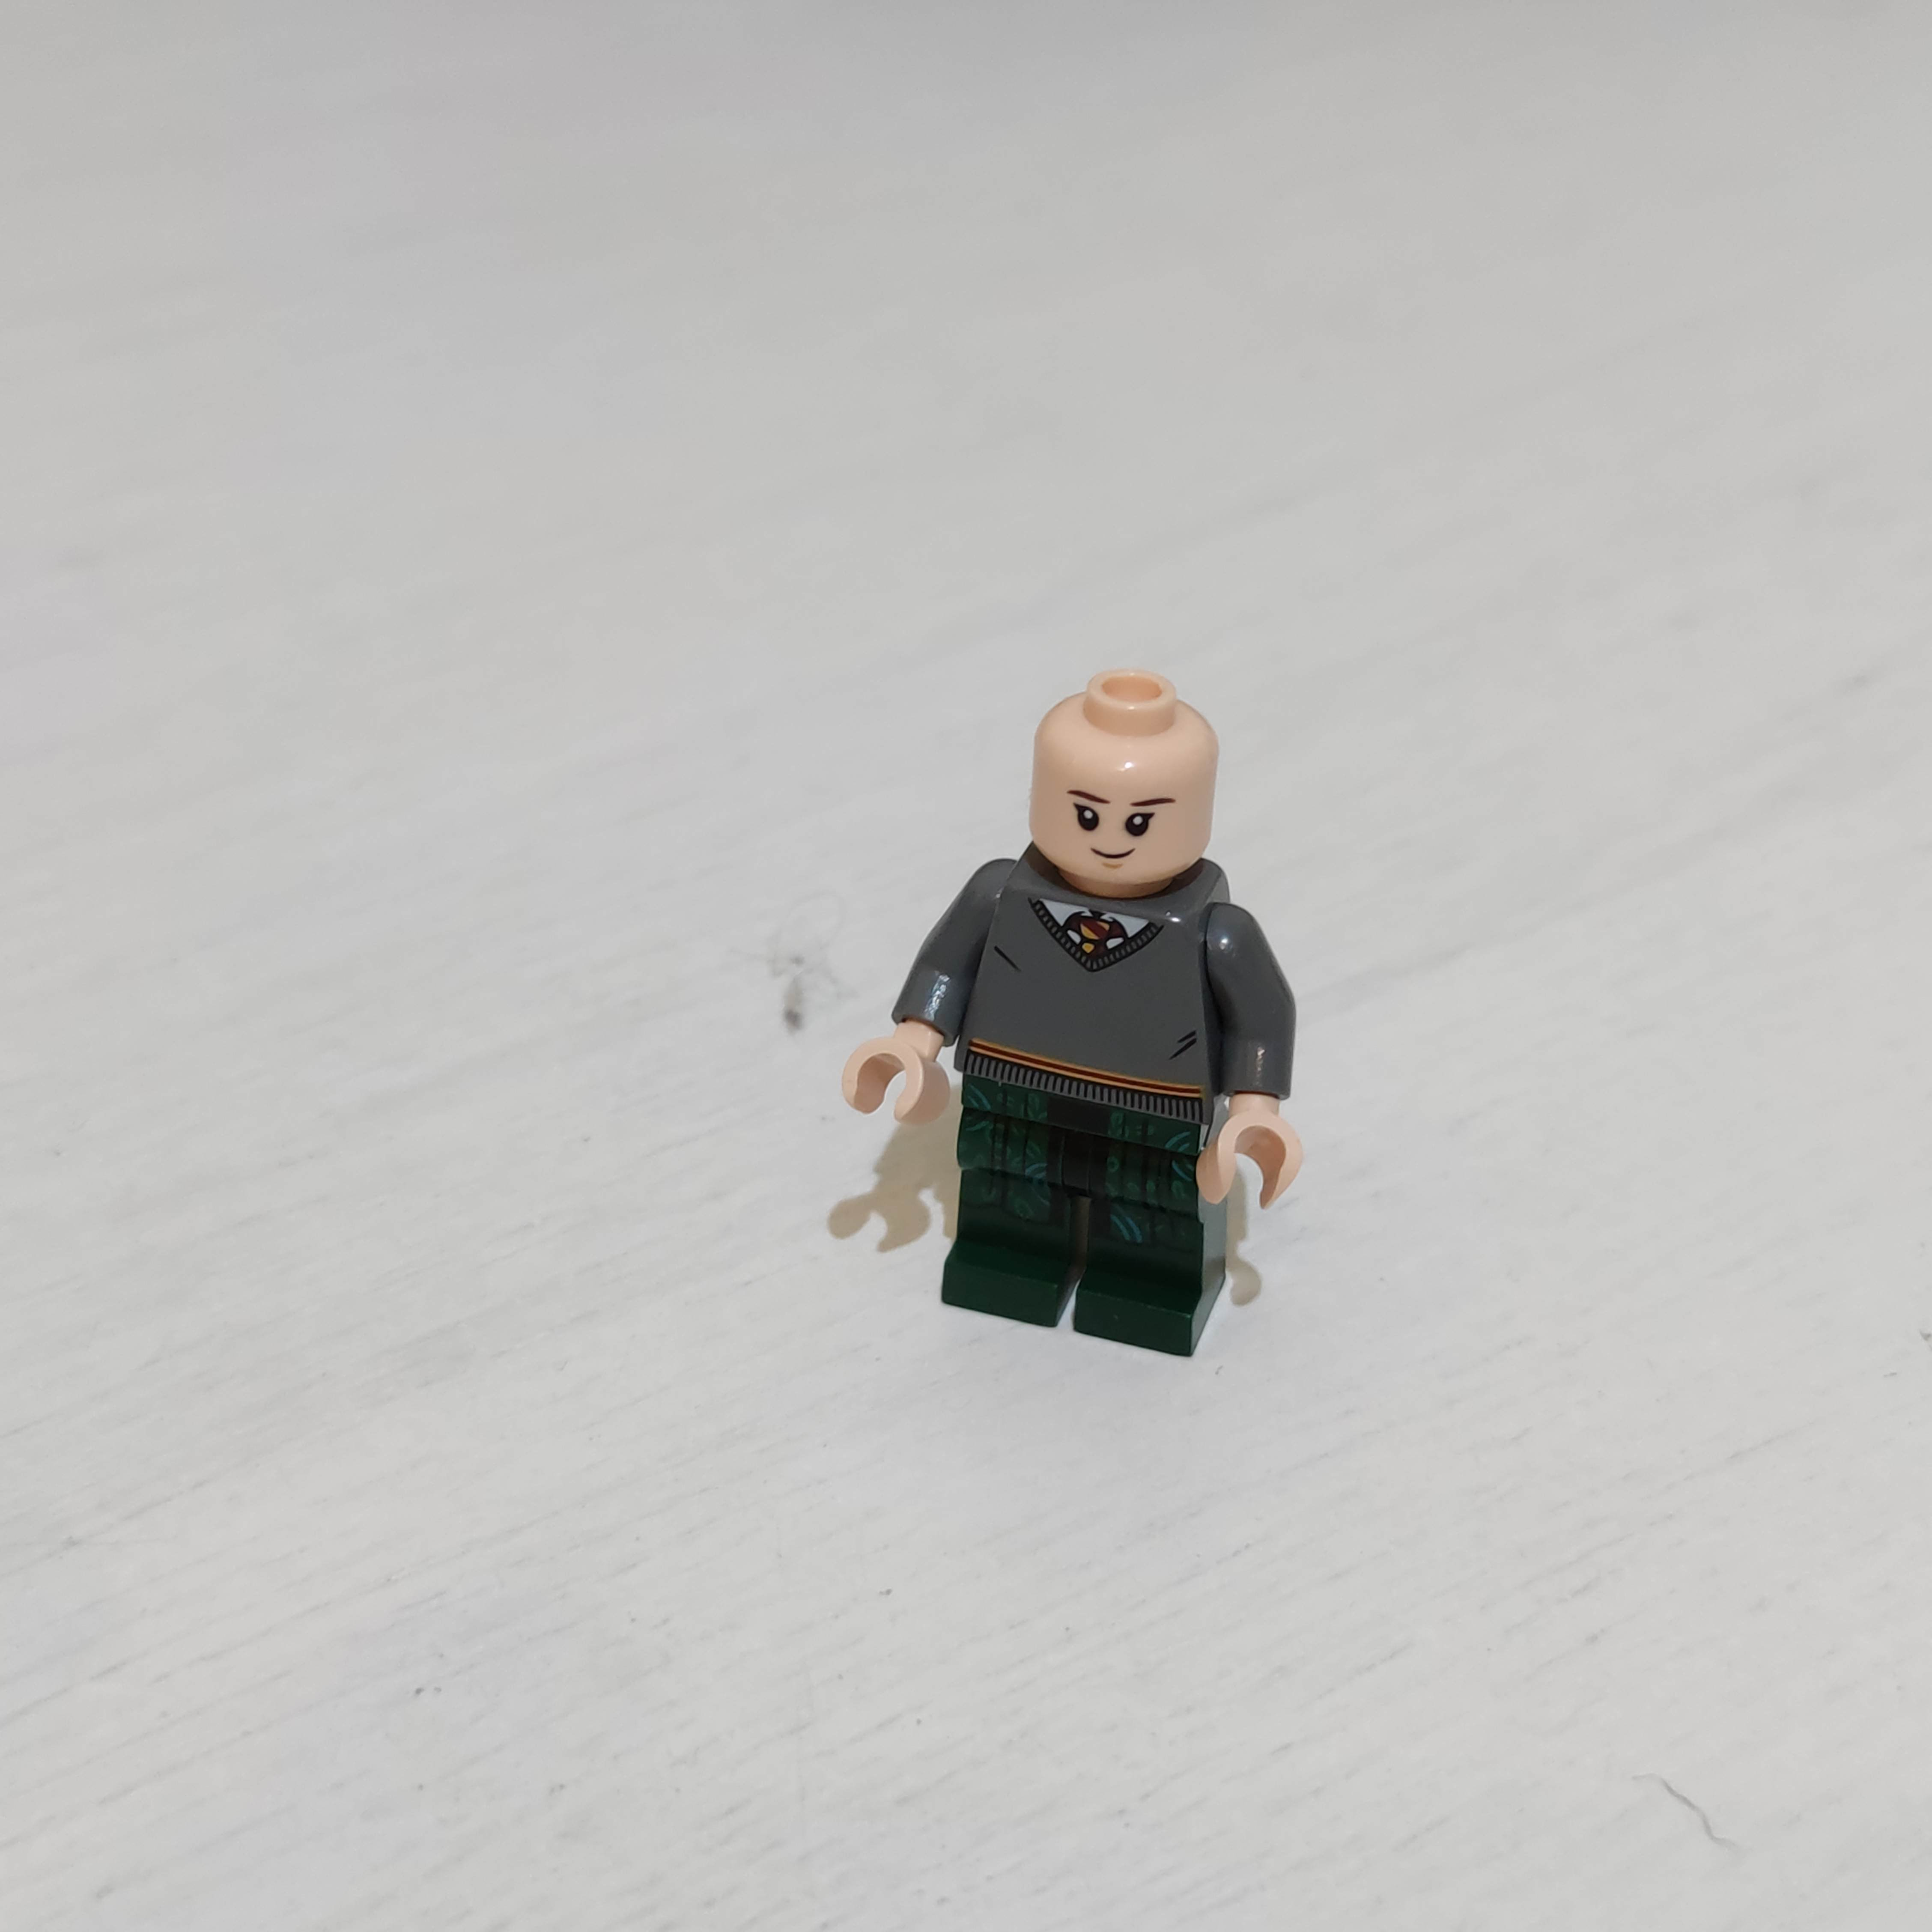lego: (840, 660, 1302, 1375)
